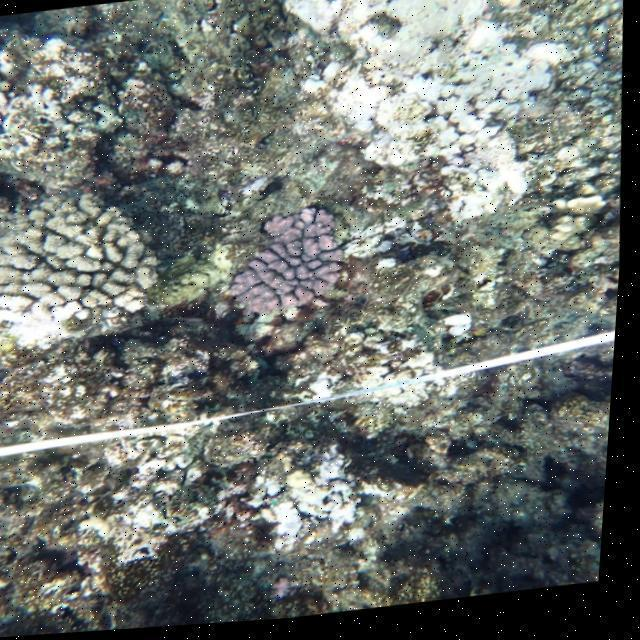Bleached Coral: (301, 0, 587, 250), (323, 306, 496, 442), (85, 420, 219, 580), (0, 38, 149, 172), (274, 428, 372, 562), (1, 280, 96, 370)
Healthy Coral: (236, 218, 332, 300)
